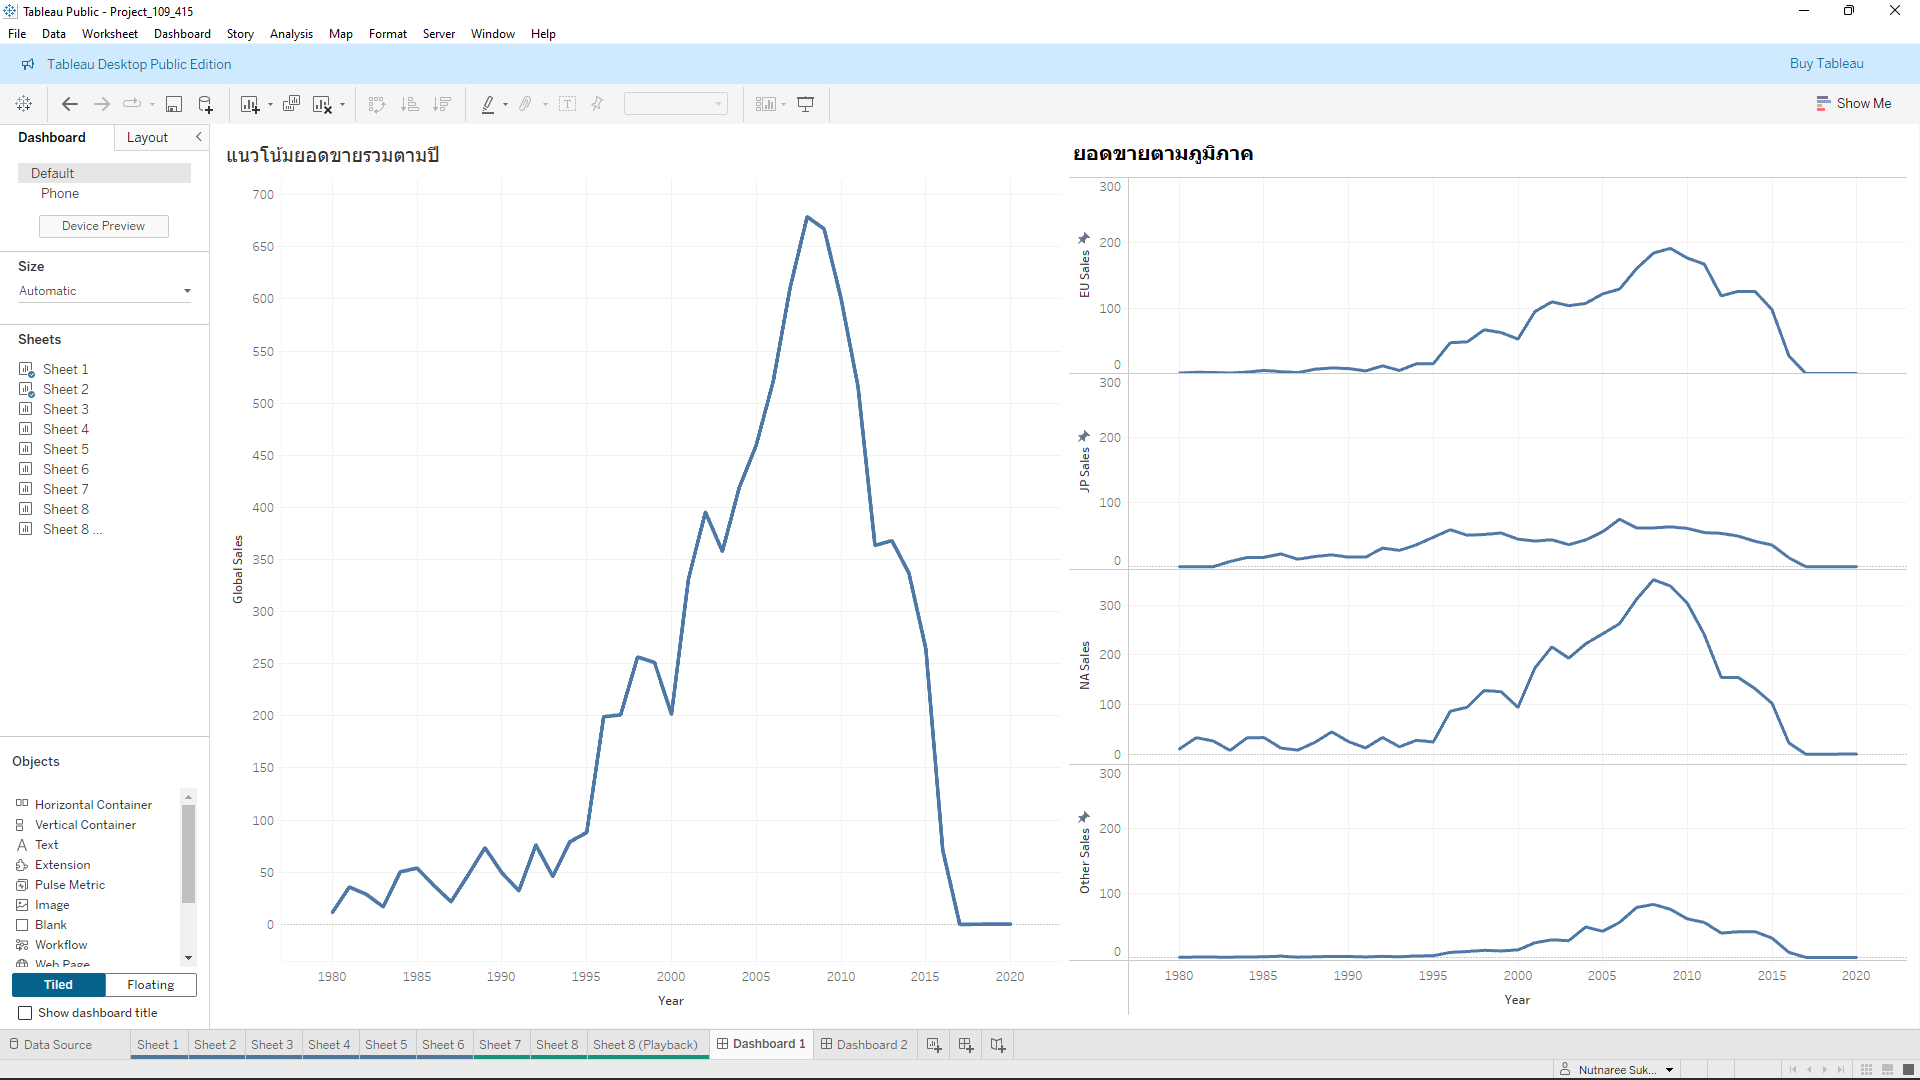

What the dashboard file says about the page in this screenshot:
{"tool":"tableau","page":{"name":"Dashboard 1","canvas":[1000,1000],"units":"permille","ordinal":0},"visuals":[{"type":"worksheet","title":"Sheet 1","mark":"Automatic","rows":["Global_Sales"],"cols":["Year"],"box":[4.7,8.8,495.3,982.3]},{"type":"worksheet","title":"Sheet 2","mark":"Automatic","rows":["EU_Sales","JP_Sales","NA_Sales","Other_Sales"],"cols":["Year"],"box":[500,8.8,495.3,982.3]}]}

Visuals, with their boxes on the dashboard's canvas, which has no fixed pixel size, in thousandths of its width and height (x1, y1, x2, y2). These are canvas units, not pixel positions in the 1920x1080 screenshot, which may show the page scaled, cropped or inside an application window:
"Sheet 1" worksheet: bbox(5, 9, 500, 991)
"Sheet 2" worksheet: bbox(500, 9, 995, 991)
